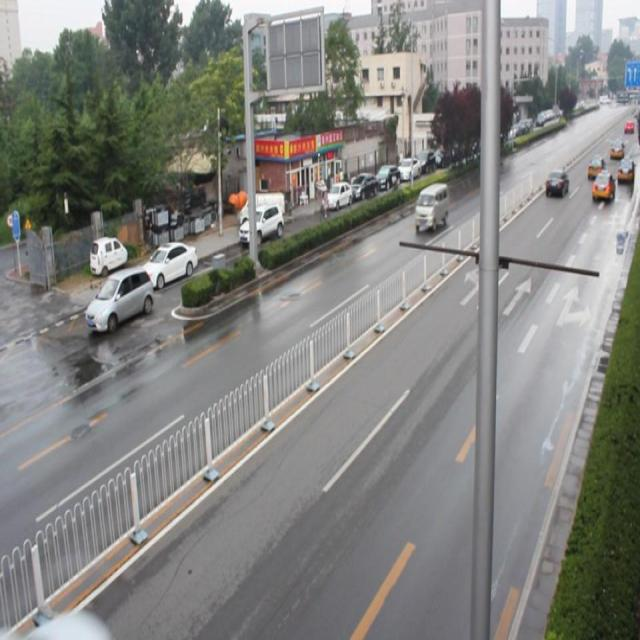car: (590, 170, 612, 202), (543, 168, 567, 196)
truck: (413, 181, 449, 234)
